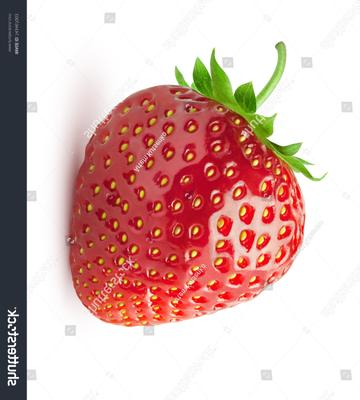strawberry: (0, 0, 360, 400)
